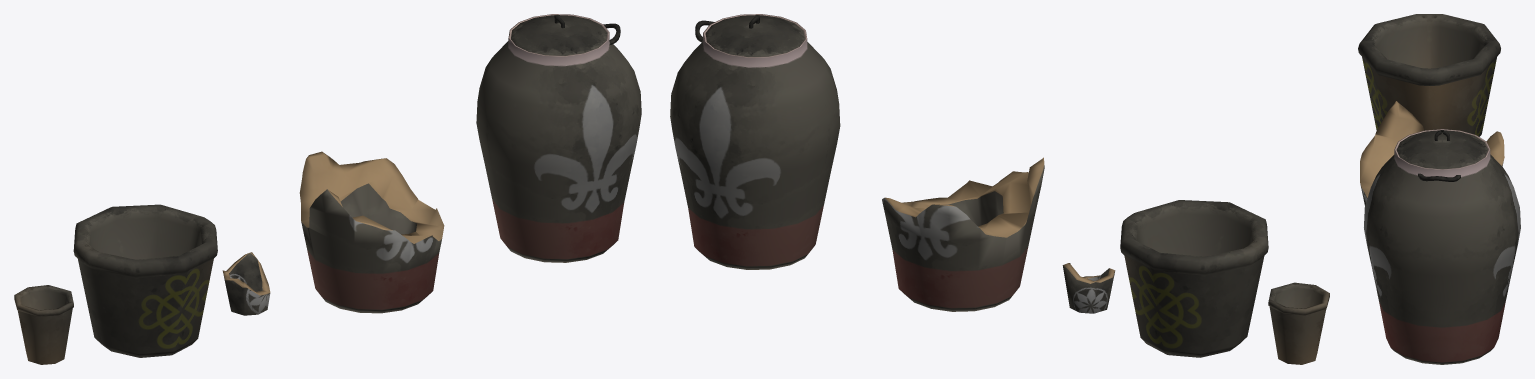
Rendered from Stylize_Pots.fbx.
The picture shows the model from 3 angles, left to right: view 1: azimuth 30°, elevation 25°; view 2: azimuth 150°, elevation 25°; view 3: azimuth 270°, elevation 25°; orthographic projection. The views are drawn at different scales.
Visible parts, largest first — view 1: Basket_Pot_Red_Black_V0, Prop_Basket_Broken_Black_V0, Small_Pot_Black_V2, Small_Pot_Black_V1, Prop_Basket_Broken_Black_V1; view 2: Basket_Pot_Red_Black_V0, Small_Pot_Black_V2, Prop_Basket_Broken_Black_V0, Small_Pot_Black_V1, Prop_Basket_Broken_Black_V1; view 3: Basket_Pot_Red_Black_V0, Small_Pot_Black_V2, Prop_Basket_Broken_Black_V0.
Boxes of the visible parts, bbox=[...] form: Basket_Pot_Red_Black_V0: bbox=[476, 14, 641, 262]; Prop_Basket_Broken_Black_V0: bbox=[299, 151, 444, 313]; Small_Pot_Black_V2: bbox=[73, 204, 217, 357]; Small_Pot_Black_V1: bbox=[14, 285, 73, 364]; Prop_Basket_Broken_Black_V1: bbox=[222, 252, 270, 315]; Basket_Pot_Red_Black_V0: bbox=[670, 14, 840, 269]; Small_Pot_Black_V2: bbox=[1120, 200, 1268, 357]; Prop_Basket_Broken_Black_V0: bbox=[882, 157, 1044, 311]; Small_Pot_Black_V1: bbox=[1268, 282, 1329, 364]; Prop_Basket_Broken_Black_V1: bbox=[1062, 263, 1115, 313]; Basket_Pot_Red_Black_V0: bbox=[1364, 129, 1520, 364]; Small_Pot_Black_V2: bbox=[1358, 14, 1500, 136]; Prop_Basket_Broken_Black_V0: bbox=[1360, 101, 1504, 205].
Size of the model in its own units: 271 by 93.13 by 65.05.
